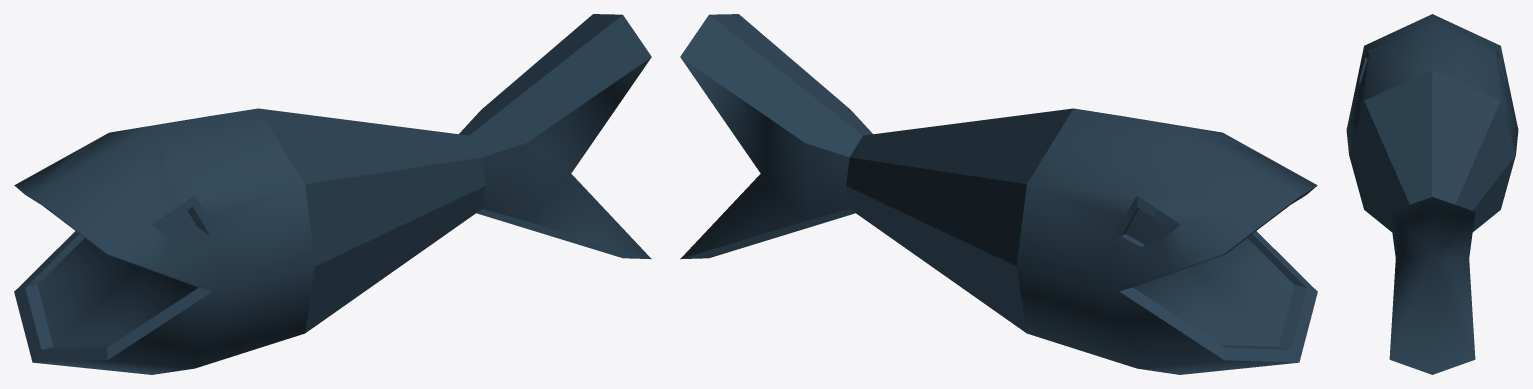
The model's file is fish.fbx.
The picture shows the model from 3 angles, left to right: view 1: azimuth 30°, elevation 25°; view 2: azimuth 150°, elevation 25°; view 3: azimuth 270°, elevation 25°; orthographic projection. The views are drawn at different scales.
Parts seen in each view (by area): view 1: Box001; view 2: Box001; view 3: Box001.
Part boxes in pixels (bbox=[...]): Box001: bbox=[14, 14, 651, 374]; Box001: bbox=[680, 14, 1317, 374]; Box001: bbox=[1346, 14, 1518, 374].
Bounding box in the file's own units: 18.16 × 7.31 × 6.26.
